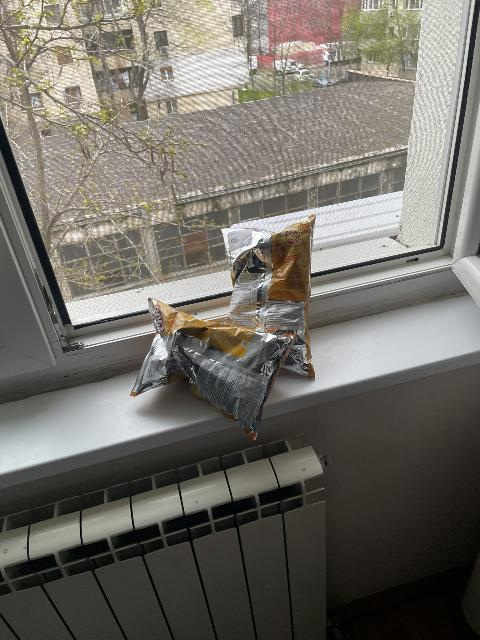Chio Cascaval 125g: (129, 297, 293, 443)
Chio Hula Hoops Cheese 70g: (219, 216, 316, 382)
